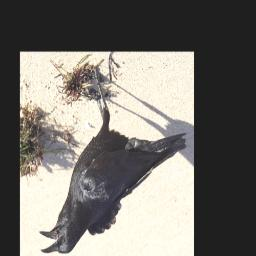Crow: (39, 62, 187, 255)
